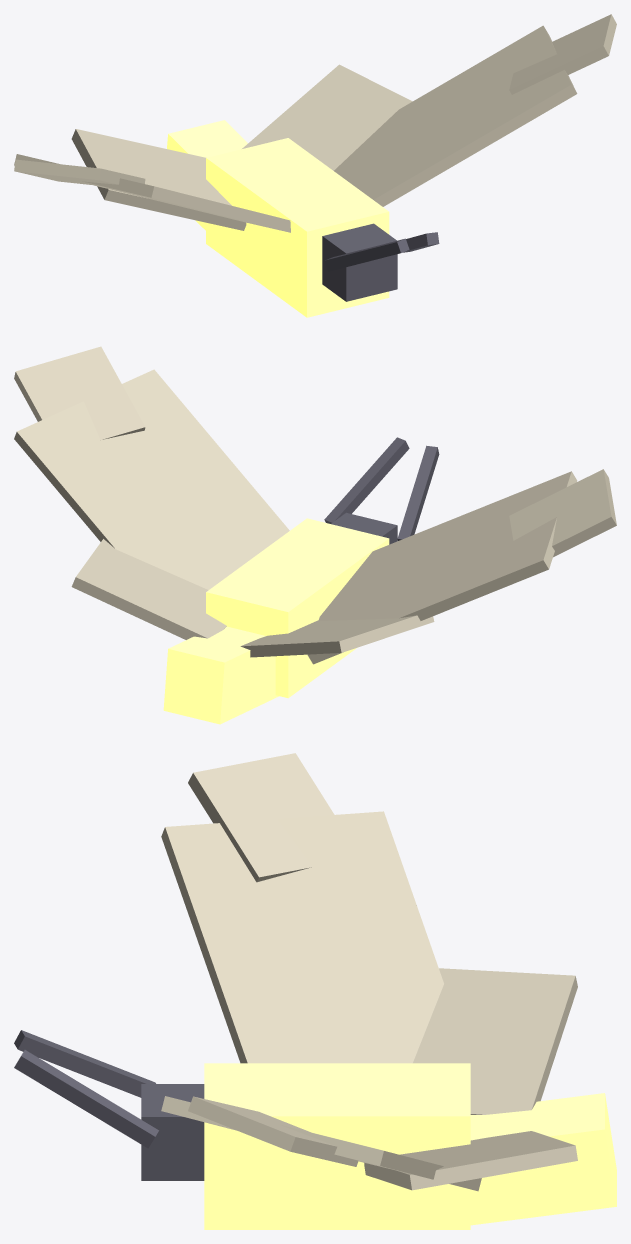
Rendered from lantern_moth_lowpoly.glb.
3 renders of one model, top to bottom at view 1: azimuth 30°, elevation 25°; view 2: azimuth 150°, elevation 25°; view 3: azimuth 270°, elevation 25°, orthographic. The views are drawn at different scales.
Parts seen in each view (by area): view 1: glow_body, upper_wing_0, lower_wing_0, lower_wing_1, head, upper_wing_tip_0, upper_wing_1, glow_tail, upper_wing_tip_1, antenna_1, antenna_0; view 2: upper_wing_0, upper_wing_1, glow_body, glow_tail, lower_wing_0, upper_wing_tip_0, upper_wing_tip_1, lower_wing_1, antenna_0, antenna_1, head; view 3: upper_wing_1, glow_body, lower_wing_1, glow_tail, upper_wing_tip_1, lower_wing_0, head, upper_wing_tip_0, antenna_0, upper_wing_0, antenna_1.
Boxes of the visible parts, x1,y1,x2,y2 form: glow_body: (206, 138, 389, 317); upper_wing_0: (334, 25, 577, 206); lower_wing_0: (242, 64, 412, 170); lower_wing_1: (71, 129, 246, 230); head: (322, 223, 397, 301); upper_wing_tip_0: (509, 14, 616, 94); upper_wing_1: (14, 154, 290, 232); glow_tail: (167, 120, 247, 230); upper_wing_tip_1: (14, 159, 145, 185); antenna_1: (324, 238, 409, 271); antenna_0: (403, 232, 439, 252); upper_wing_0: (14, 369, 289, 589); upper_wing_1: (307, 471, 577, 664); glow_body: (206, 518, 389, 698); glow_tail: (163, 626, 278, 724); lower_wing_0: (71, 539, 226, 639); upper_wing_tip_0: (14, 346, 145, 439); upper_wing_tip_1: (509, 469, 616, 557); lower_wing_1: (240, 615, 434, 657); antenna_0: (324, 437, 409, 523); antenna_1: (397, 445, 439, 540); head: (331, 512, 397, 544); upper_wing_1: (161, 811, 443, 1063); glow_body: (204, 1063, 470, 1229); lower_wing_1: (413, 968, 577, 1114); glow_tail: (470, 1093, 616, 1225); upper_wing_tip_1: (188, 753, 334, 882); lower_wing_0: (364, 1131, 577, 1190); head: (141, 1084, 204, 1180); upper_wing_tip_0: (188, 1096, 358, 1166); antenna_0: (14, 1050, 158, 1148); upper_wing_0: (161, 1096, 481, 1191); antenna_1: (14, 1030, 155, 1097).
Size of what is drawn, in the model's own units: 1.17 by 0.3882 by 0.7692.
